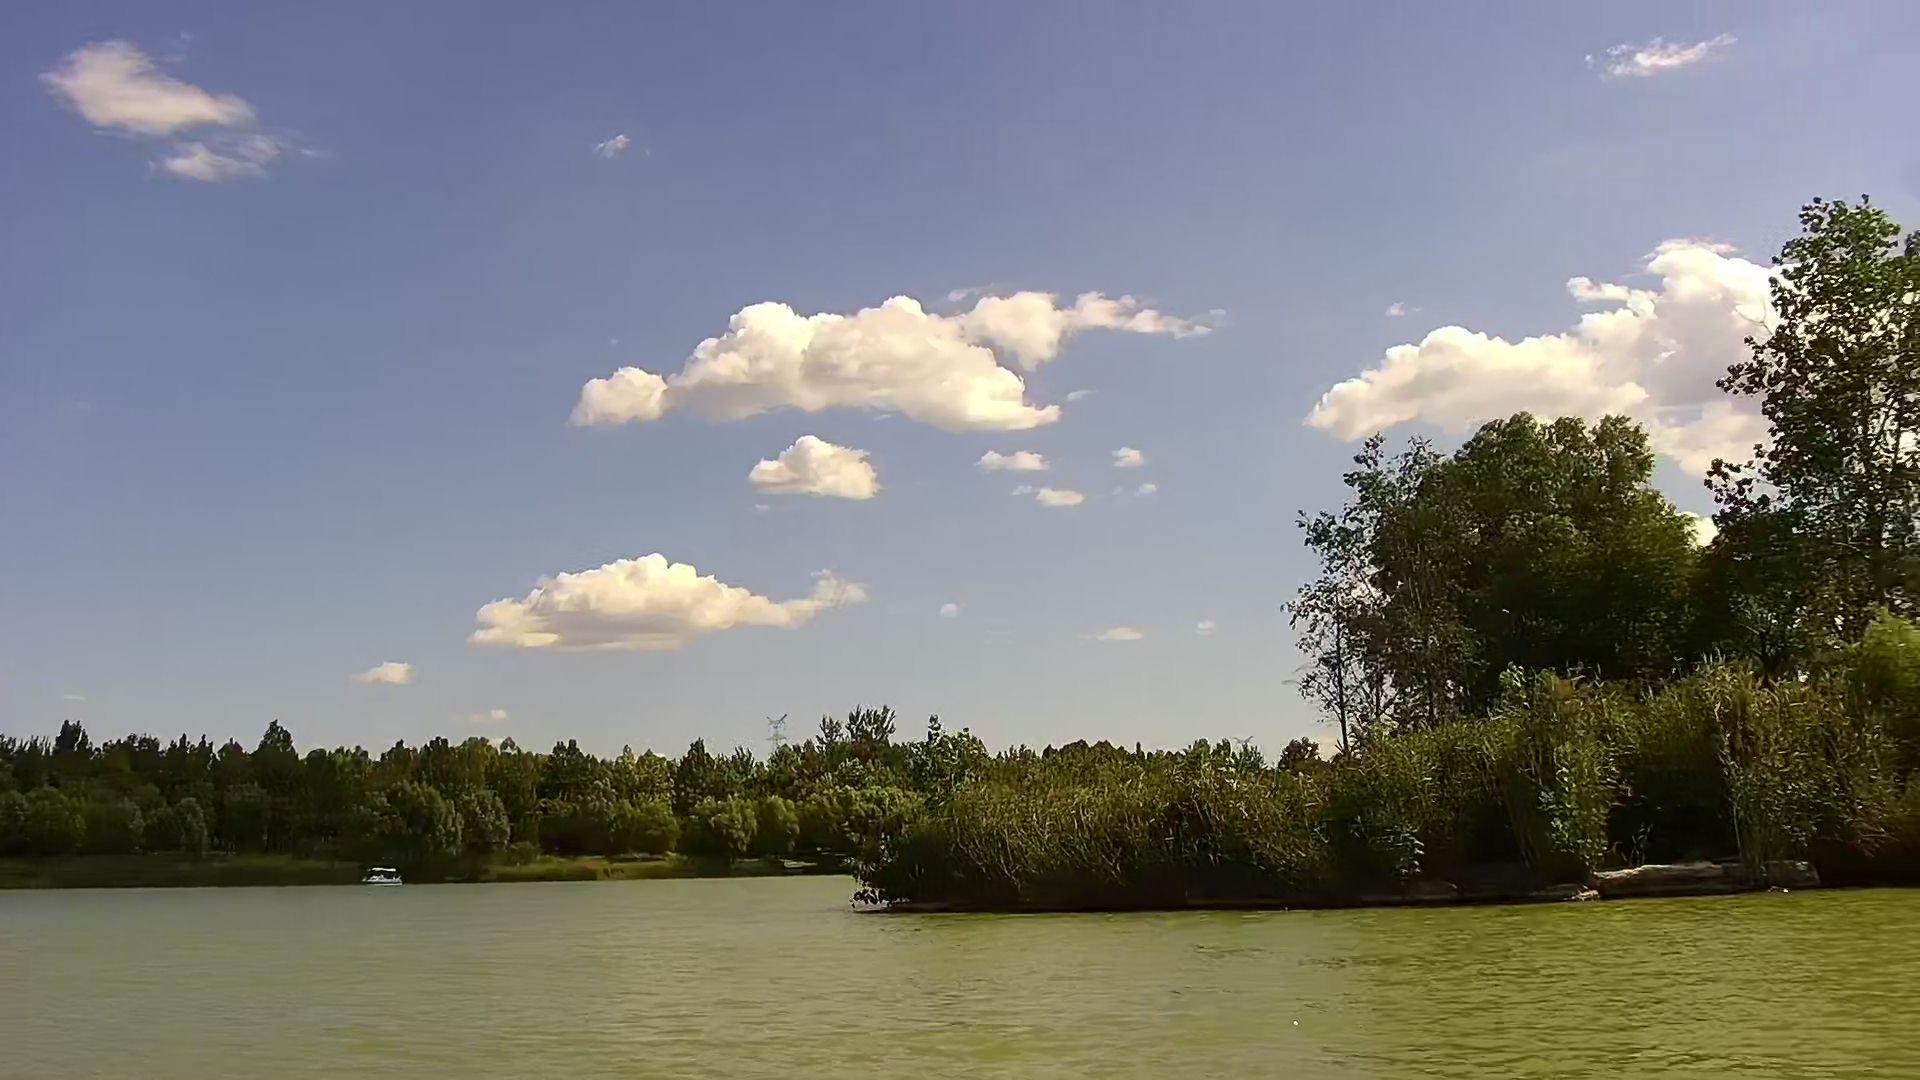boat: (364, 865, 406, 887)
